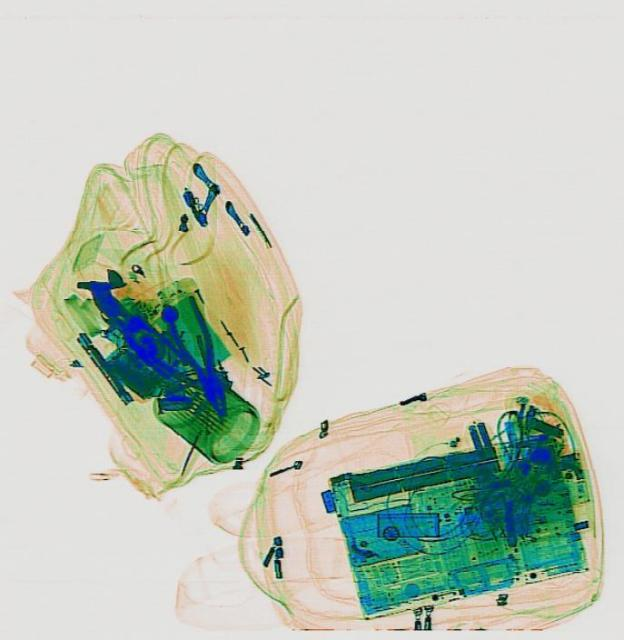Pliers: (157, 292, 241, 424)
